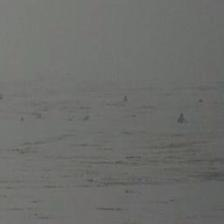surfer: (68, 116, 90, 122), (176, 113, 187, 124), (32, 111, 44, 119), (18, 115, 26, 122), (122, 96, 129, 102), (198, 98, 204, 104), (1, 93, 4, 102)
